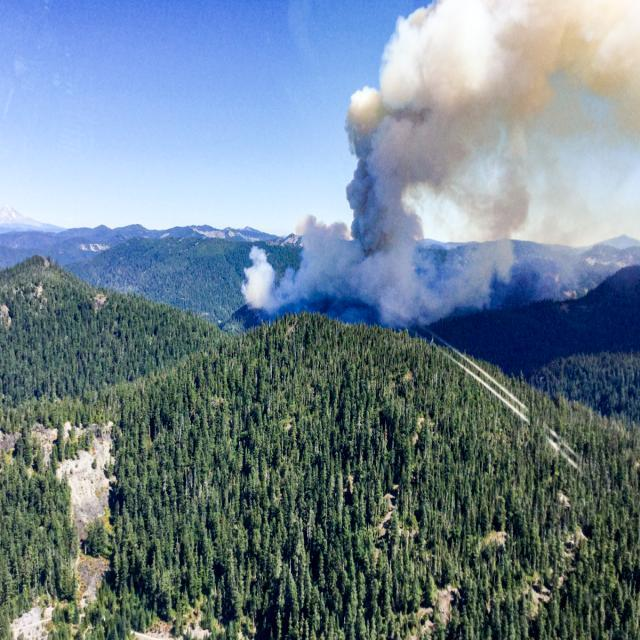Smoke: (241, 0, 637, 311)
